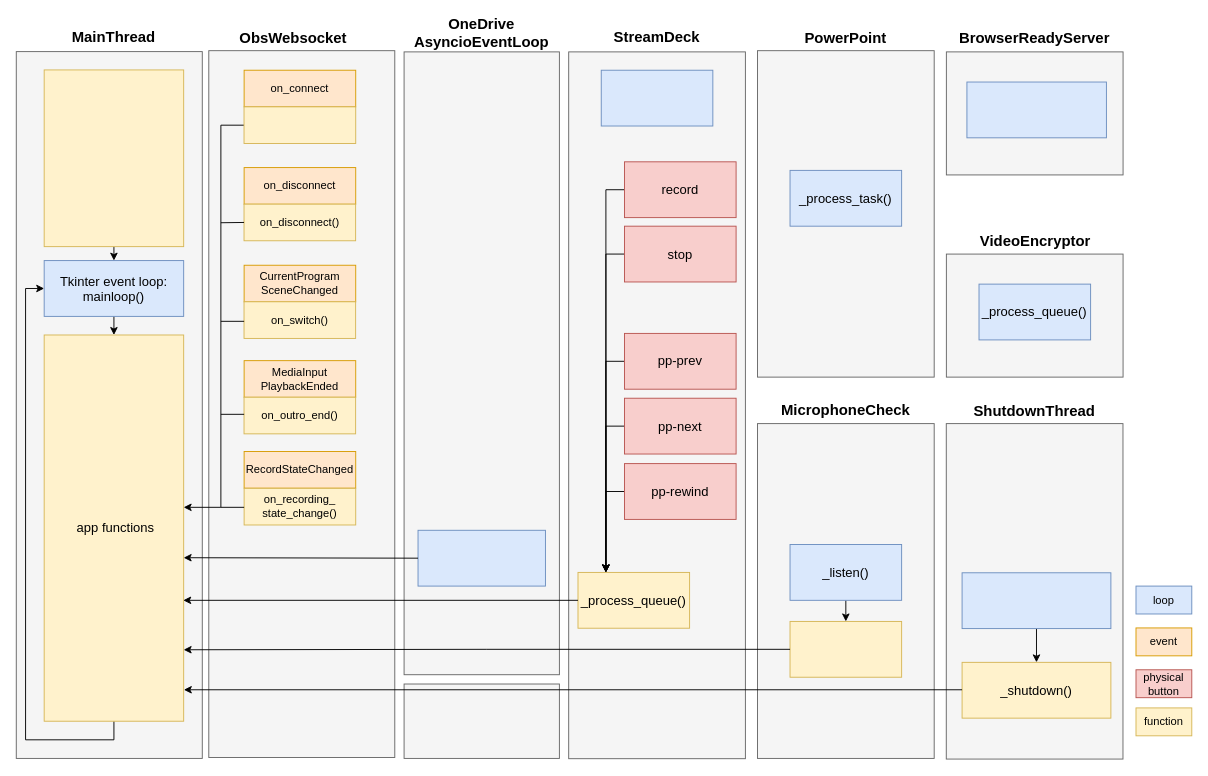
Some shapes in this 1208 by 776 pixel diagram are drawn without their labels. Here are the shapes that lost their labels. From the top down, the centre of each, then its label:
At (656,97): "_start_server()".
At (1036,109): "_start_ready_server()".
At (299,124): "on_connect()".
At (113,158): "app.py".
At (481,557): "run_async_loop()".
At (1036,600): "_thr_auto_shutdown()".
At (845,648): "sound_detected()".
At (481,720): "+ Upload worker threads".
